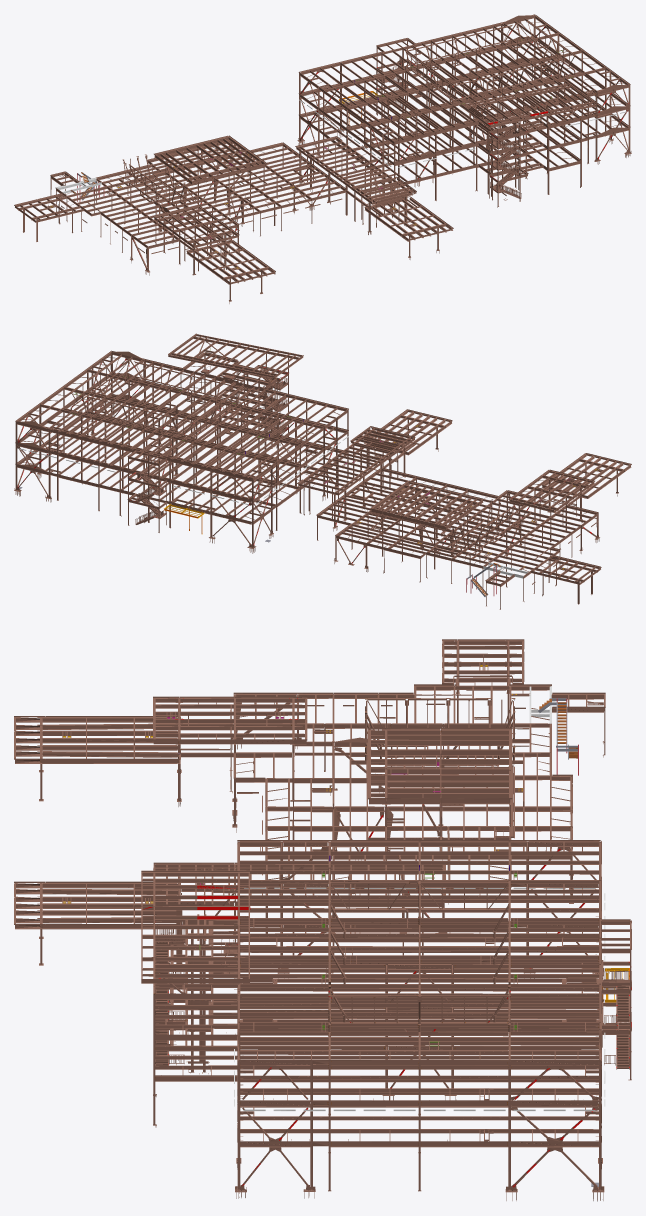
3 views of the same model, one above another, from view 1: azimuth 30°, elevation 25°; view 2: azimuth 150°, elevation 25°; view 3: azimuth 270°, elevation 25° (orthographic). The views are drawn at different scales.
Visible parts, largest first — view 1: g0; view 2: g0; view 3: g0.
Boxes of the visible parts, x1=… form: g0: x1=14, y1=14, x2=631, y2=303; g0: x1=14, y1=333, x2=631, y2=609; g0: x1=14, y1=639, x2=631, y2=1201.
Bounding box in the file's own units: 121 × 19.86 × 62.8.
1 material, 1 textured.
